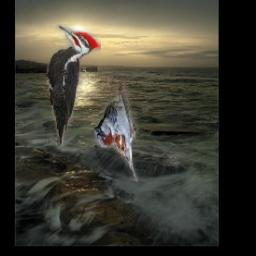Sparrow: (93, 84, 137, 183)
Woodpecker: (47, 24, 101, 146)
